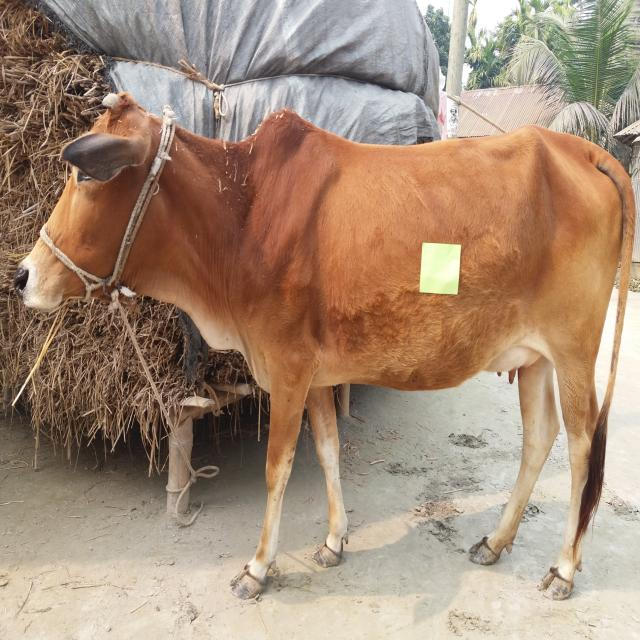badan_sapi: (257, 113, 616, 400)
sapi: (9, 81, 634, 608)
